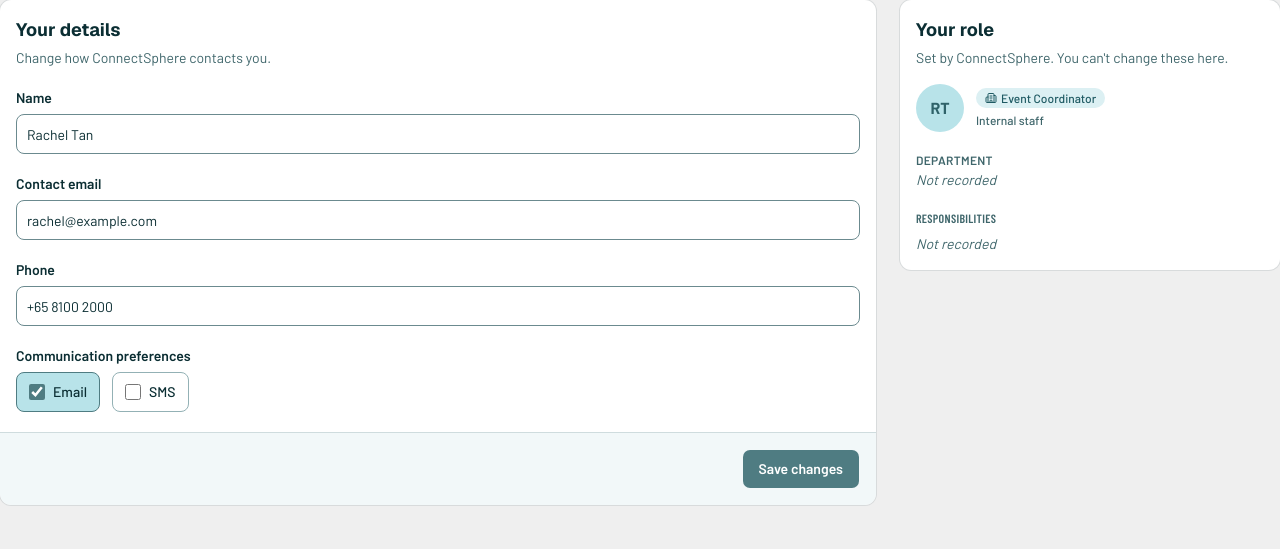
Test: SCRUM-68/AC4,AC5 profile form: checking before saving › 68-S9: says the Phone box is wrong when the person leaves it like that
Step 1. Replace the text in the field labelled "Phone" with "abc" → (438, 306), box [16,286,860,326]
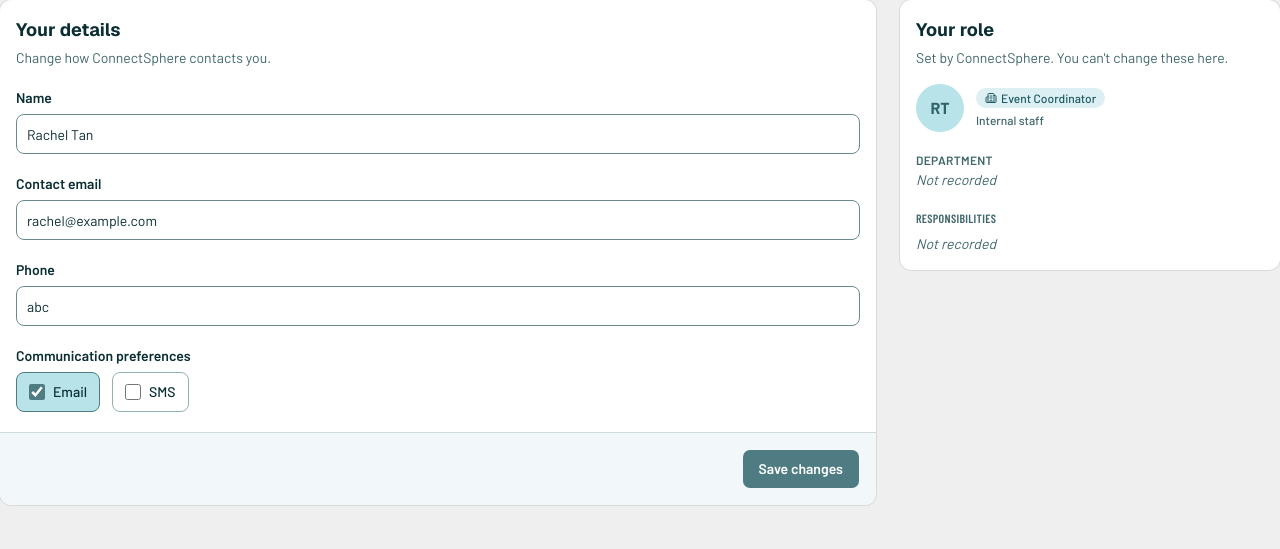
Step 2. Leave the field labelled "Phone", box [16,286,860,326]
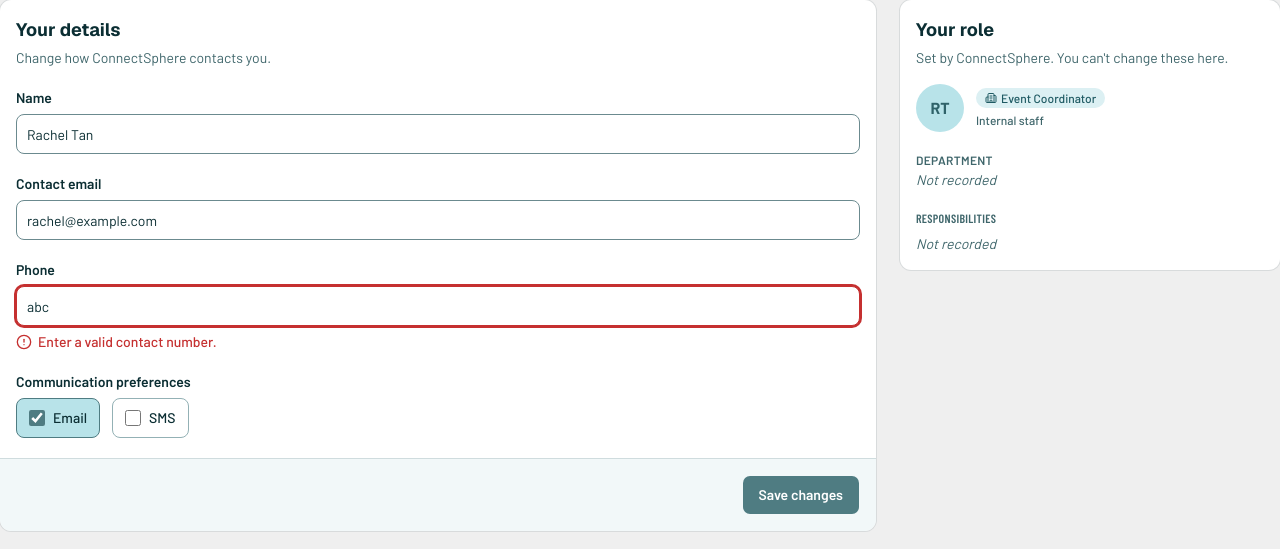
Expected: the text "Enter a valid contact number." is shown, [16,333,216,350]
